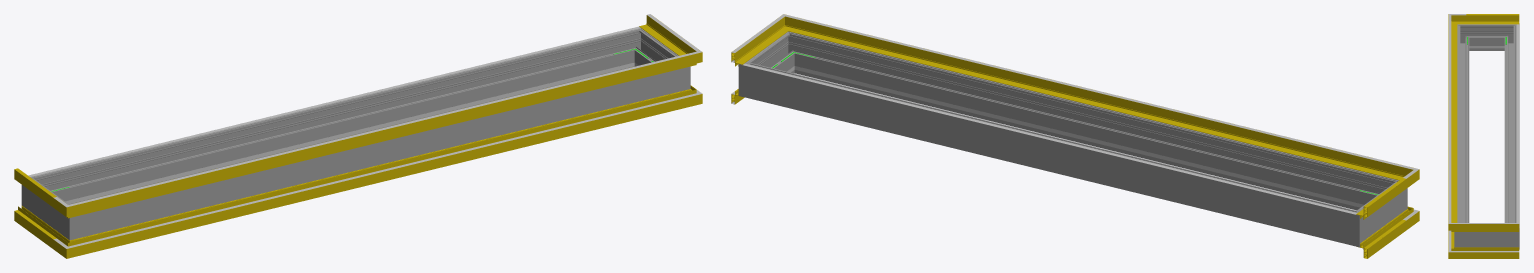
The picture shows the model from 3 angles, left to right: view 1: azimuth 30°, elevation 25°; view 2: azimuth 150°, elevation 25°; view 3: azimuth 270°, elevation 25°; orthographic projection. The views are drawn at different scales.
Parts seen in each view (by area): view 1: 3DGeom-278, 3DGeom-300, 3DGeom-90, 3DGeom-56, 3DGeom-246, 3DGeom-222, 3DGeom-66, 3DGeom-100, 3DGeom-272, 3DGeom-85, 3DGeom-58, 3DGeom-286 (+7 smaller); view 2: 3DGeom-300, 3DGeom-278, 3DGeom-56, 3DGeom-241, 3DGeom-222, 3DGeom-66, 3DGeom-280, 3DGeom-286, 3DGeom-85, 3DGeom-58, 3DGeom-292, 3DGeom-299 (+4 smaller); view 3: 3DGeom-278, 3DGeom-300, 3DGeom-56, 3DGeom-222, 3DGeom-66, 3DGeom-270, 3DGeom-97, 3DGeom-50, 3DGeom-299, 3DGeom-58, 3DGeom-280, 3DGeom-286 (+11 smaller).
Part boxes in pixels (bbox=[...]): 3DGeom-278: bbox=[46, 33, 630, 204]; 3DGeom-300: bbox=[92, 72, 667, 234]; 3DGeom-90: bbox=[85, 92, 679, 253]; 3DGeom-56: bbox=[87, 58, 679, 213]; 3DGeom-246: bbox=[73, 68, 612, 202]; 3DGeom-222: bbox=[28, 26, 640, 176]; 3DGeom-66: bbox=[87, 56, 679, 201]; 3DGeom-100: bbox=[87, 98, 679, 243]; 3DGeom-272: bbox=[56, 201, 92, 240]; 3DGeom-85: bbox=[14, 205, 60, 248]; 3DGeom-58: bbox=[639, 15, 685, 54]; 3DGeom-286: bbox=[622, 28, 651, 67]; 3DGeom-300: bbox=[798, 36, 1382, 210]; 3DGeom-278: bbox=[761, 66, 1340, 241]; 3DGeom-56: bbox=[800, 21, 1394, 178]; 3DGeom-241: bbox=[816, 71, 1355, 206]; 3DGeom-222: bbox=[743, 63, 1357, 214]; 3DGeom-66: bbox=[804, 19, 1396, 165]; 3DGeom-280: bbox=[1337, 204, 1372, 247]; 3DGeom-286: bbox=[738, 55, 765, 101]; 3DGeom-85: bbox=[1358, 215, 1406, 258]; 3DGeom-58: bbox=[731, 25, 781, 66]; 3DGeom-292: bbox=[777, 31, 807, 73]; 3DGeom-299: bbox=[755, 39, 792, 72]; 3DGeom-278: bbox=[1504, 30, 1519, 222]; 3DGeom-300: bbox=[1457, 30, 1469, 222]; 3DGeom-56: bbox=[1448, 22, 1457, 222]; 3DGeom-222: bbox=[1516, 24, 1519, 222]; 3DGeom-66: bbox=[1448, 21, 1451, 216]; 3DGeom-270: bbox=[1472, 24, 1501, 50]; 3DGeom-97: bbox=[1466, 247, 1519, 258]; 3DGeom-50: bbox=[1466, 15, 1519, 24]; 3DGeom-299: bbox=[1472, 232, 1501, 247]; 3DGeom-58: bbox=[1466, 224, 1519, 231]; 3DGeom-280: bbox=[1501, 23, 1519, 50]; 3DGeom-286: bbox=[1501, 221, 1519, 249].
Bounding box in the file's own units: 4.27 × 0.3303 × 0.6096.
